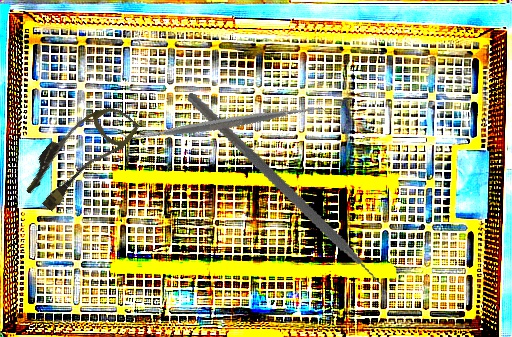Cannula: (17, 88, 141, 222)
Chopper: (151, 92, 420, 311)
Spatula Surgical: (118, 17, 330, 229)
